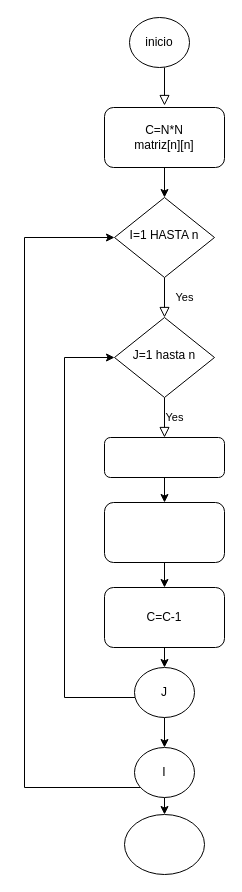
Some shapes in this 242 by 892 pixel diagram are drawn without their labels. The shapes that lost their labels are listed below. From the top down, each one's centre as x and y in pixels, then its label:
At point 164,457: "A(J,I)=C".
At point 164,532: "A(J,I)".
At point 164,844: "FIN".
